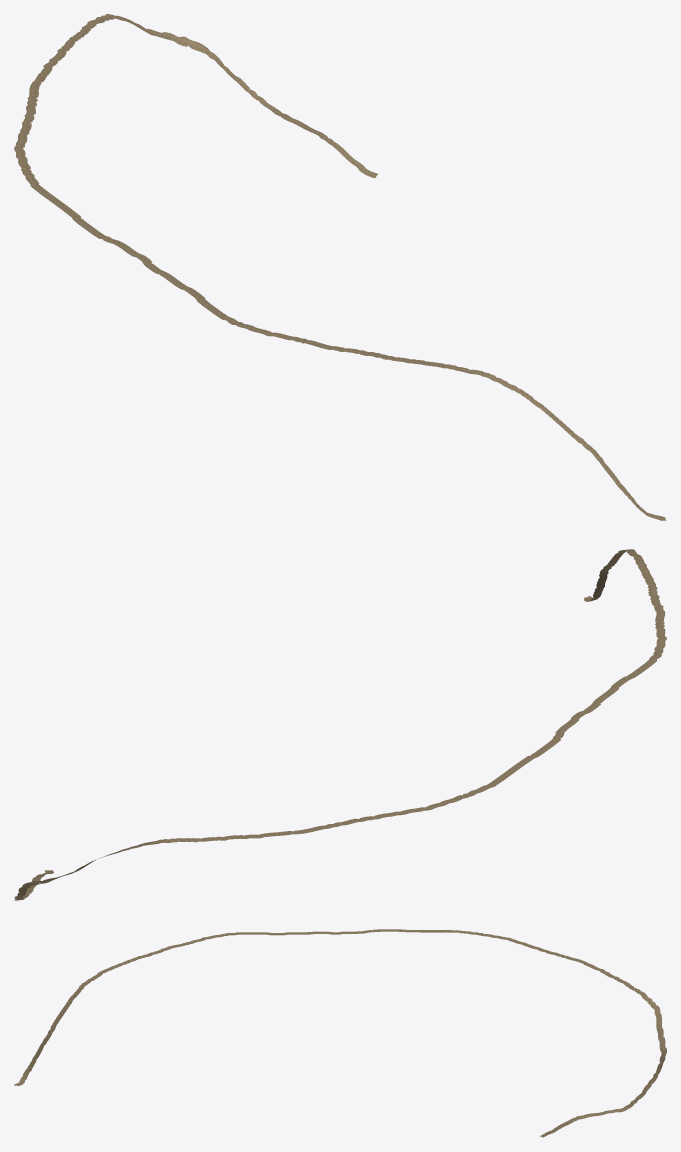
File: RD-ROAD-003.obj
3 views of the same model, one above another, from view 1: azimuth 30°, elevation 25°; view 2: azimuth 150°, elevation 25°; view 3: azimuth 270°, elevation 25° (orthographic). The views are drawn at different scales.
Parts seen in each view (by area): view 1: RD-ROAD-003; view 2: RD-ROAD-003; view 3: RD-ROAD-003.
Part boxes in pixels (x1,y1,x2,y2): RD-ROAD-003: (14,14,666,520); RD-ROAD-003: (14,549,666,900); RD-ROAD-003: (14,929,666,1137).
Size of the model in its own units: 206 by 66.36 by 461.
Materials: 1 (1 with a texture image).
